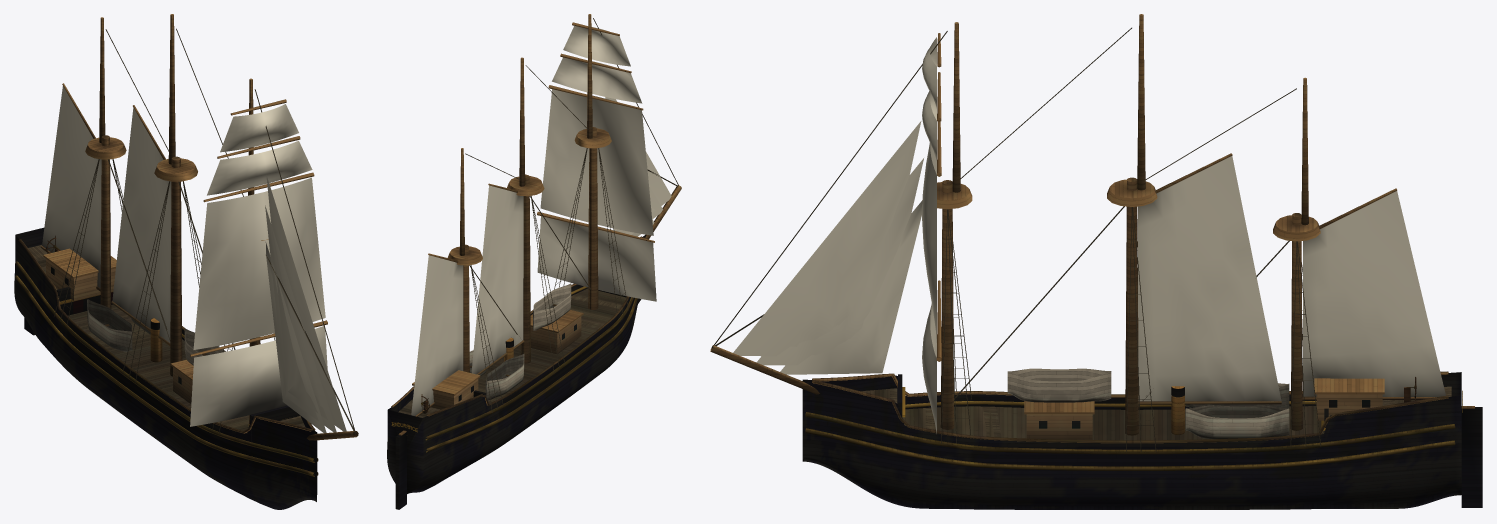
File: model_built.glb
3 views of the same model, side by side, from view 1: azimuth 30°, elevation 25°; view 2: azimuth 150°, elevation 25°; view 3: azimuth 270°, elevation 25° (orthographic). The views are drawn at different scales.
Parts seen in each view (by area): view 1: sails, hull, rig, rigging; view 2: sails, hull, rig, rigging; view 3: hull, sails, rig, rigging.
Part boxes in pixels (box(x1,y1,x2,y2)): sails: box(42, 86, 346, 433); hull: box(14, 227, 318, 509); rig: box(41, 14, 358, 440); rigging: box(54, 28, 356, 434); sails: box(411, 26, 671, 415); hull: box(387, 235, 646, 509); rig: box(415, 14, 681, 416); rigging: box(465, 18, 678, 412); hull: box(802, 368, 1482, 509); sails: box(733, 37, 1445, 433); rig: box(710, 14, 1436, 435); rigging: box(711, 27, 1321, 451).
Size of the model in its own units: 12.52 by 36.3 by 51.44.
4 materials, 2 textured.
